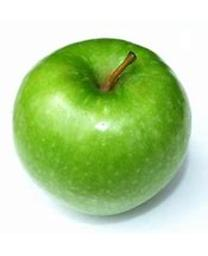apple: (13, 39, 192, 215)
